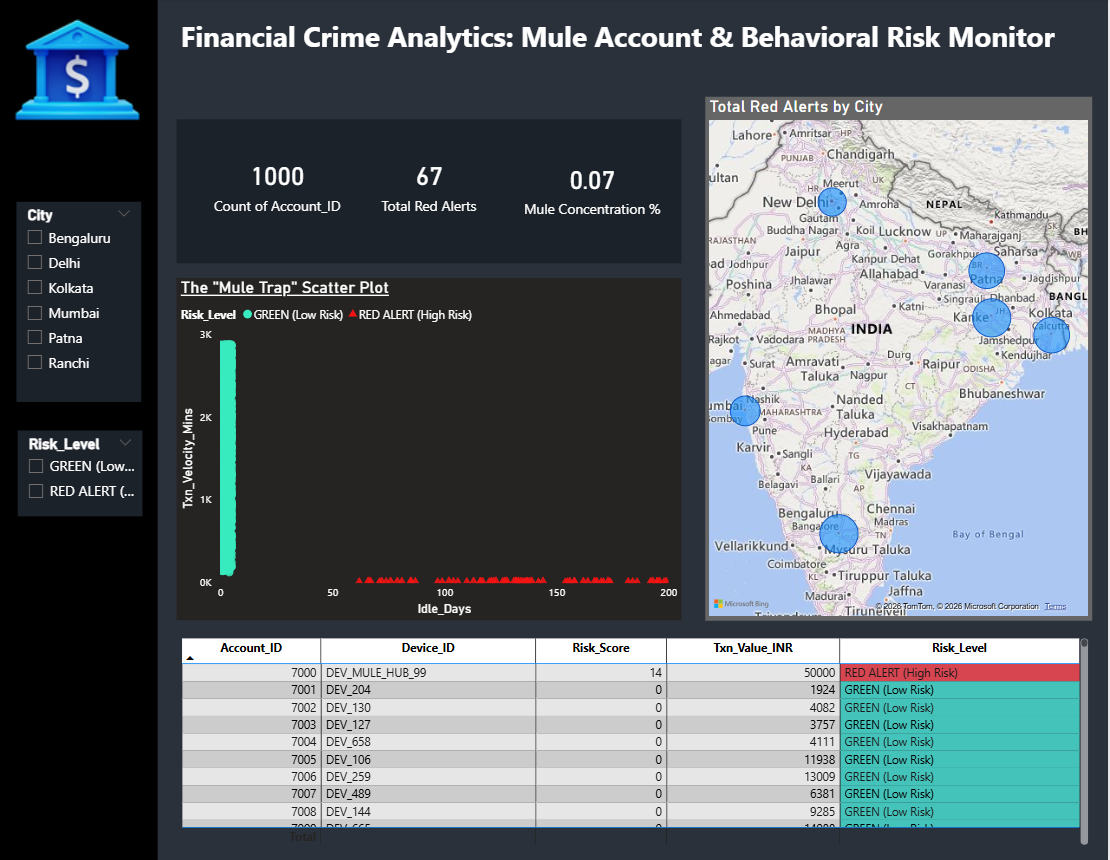

The dashboard page shown, as its layout file describes it:
{"tool":"powerbi","page":{"name":"Page 1","canvas":[1280,1000],"ordinal":0},"visuals":[{"type":"shape","box":[0,0,183.3,1000.3],"z":0},{"type":"image","box":[16.5,0,149.6,167.4],"z":1000},{"type":"shape","box":[205,140,583.3,166.7],"z":2000},{"type":"card","fields":{"Values":["Count(da2 cleaned_mule_risk_assessment.Account_ID)"]},"box":[221.7,166.7,198.3,98.3],"z":3000},{"type":"card","fields":{"Values":["da2 cleaned_mule_risk_assessment.Total Red Alerts"]},"box":[420,140,153.3,150],"z":4000},{"type":"card","fields":{"Values":["da2 cleaned_mule_risk_assessment.Mule Concentration %"]},"box":[581.7,173.3,206.7,91.7],"z":5000},{"type":"scatterChart","title":"The \"Mule Trap\" Scatter Plot","fields":{"X":["da2 cleaned_mule_risk_assessment.Idle_Days"],"Y":["da2 cleaned_mule_risk_assessment.Txn_Velocity_Mins"],"Series":["da2 cleaned_mule_risk_assessment.Risk_Level"]},"box":[205,323.3,583.3,395],"z":6000},{"type":"map","fields":{"Category":["da2 cleaned_mule_risk_assessment.City"],"Size":["da2 cleaned_mule_risk_assessment.Total Red Alerts"]},"box":[815,113.3,446.7,605],"z":7000},{"type":"tableEx","fields":{"Values":["da2 cleaned_mule_risk_assessment.Account_ID","da2 cleaned_mule_risk_assessment.Device_ID","da2 cleaned_mule_risk_assessment.Risk_Score","da2 cleaned_mule_risk_assessment.Txn_Value_INR","da2 cleaned_mule_risk_assessment.Risk_Level"]},"box":[205,734.7,1058,248.3],"z":8000},{"type":"slicer","fields":{"Values":["da2 cleaned_mule_risk_assessment.City"]},"box":[20.2,235.3,144.3,230.9],"z":9000},{"type":"textbox","box":[205,16.7,1075,66.7],"z":10000},{"type":"slicer","fields":{"Values":["da2 cleaned_mule_risk_assessment.Risk_Level"]},"box":[21.7,499.4,144.3,99.6],"z":11000}]}

Visuals, with their boxes on the page's 1280x1000 design canvas (x1, y1, x2, y2). These are canvas units, not pixel positions in the 1110x860 screenshot, which may show the page scaled, cropped or inside an application window:
shape: Rect(0, 0, 183, 1000)
image: Rect(16, 0, 166, 167)
shape: Rect(205, 140, 788, 307)
card - Count(da2 cleaned_mule_risk_assessment.Account_ID): Rect(222, 167, 420, 265)
card - da2 cleaned_mule_risk_assessment.Total Red Alerts: Rect(420, 140, 573, 290)
card - da2 cleaned_mule_risk_assessment.Mule Concentration %: Rect(582, 173, 788, 265)
"The "Mule Trap" Scatter Plot" scatterChart: Rect(205, 323, 788, 718)
map - da2 cleaned_mule_risk_assessment.City x da2 cleaned_mule_risk_assessment.Total Red Alerts: Rect(815, 113, 1262, 718)
tableEx - da2 cleaned_mule_risk_assessment.Account_ID x da2 cleaned_mule_risk_assessment.Device_ID: Rect(205, 735, 1263, 983)
slicer - da2 cleaned_mule_risk_assessment.City: Rect(20, 235, 164, 466)
textbox: Rect(205, 17, 1280, 83)
slicer - da2 cleaned_mule_risk_assessment.Risk_Level: Rect(22, 499, 166, 599)
